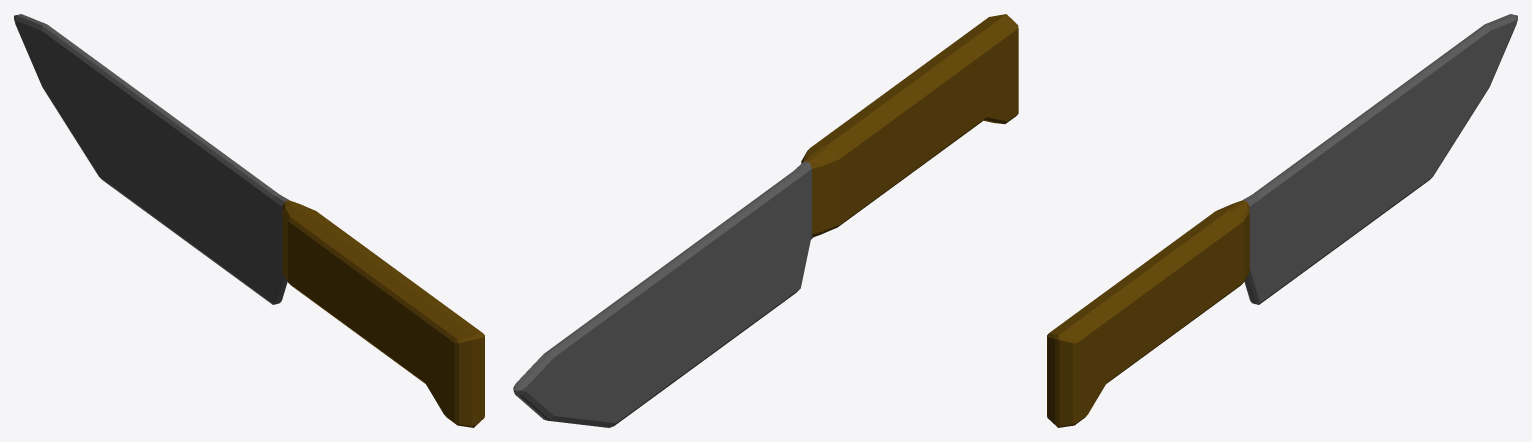
The model's file is knife.glb.
The picture shows the model from 3 angles, left to right: view 1: azimuth 30°, elevation 25°; view 2: azimuth 150°, elevation 25°; view 3: azimuth 330°, elevation 25°; orthographic projection. The views are drawn at different scales.
Parts seen in each view (by area): view 1: Cube.002-rigid; view 2: Cube.002-rigid; view 3: Cube.002-rigid.
Boxes of the visible parts, x1,y1,x2,y2 form: Cube.002-rigid: (14, 14, 484, 427); Cube.002-rigid: (513, 14, 1018, 427); Cube.002-rigid: (1047, 14, 1517, 427).
Size of the model in its own units: 0.013 by 0.0463 by 0.3383.
